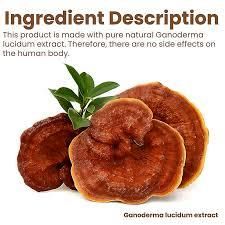Ganoderma - Fruit Body: (16, 79, 207, 204)
